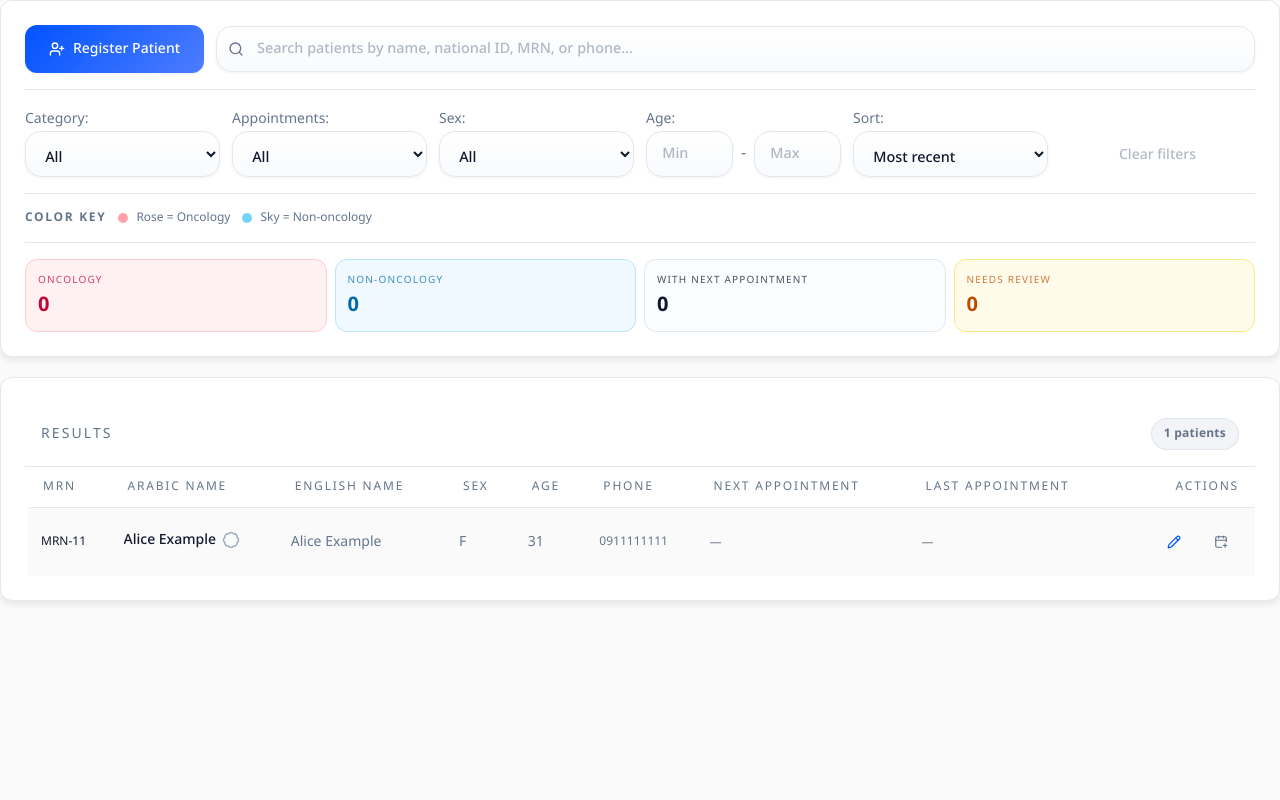
Scenario: PatientsPage interactions › opens and dismisses the patient drawer when clicking a patient row
This screenshot has width=1280, height=800.
Check: the text "Alice Example" is shown, box [124,530,216,550]
Step 1. Click the button "Alice Example" → [641, 542], box [27,508,1255,576]
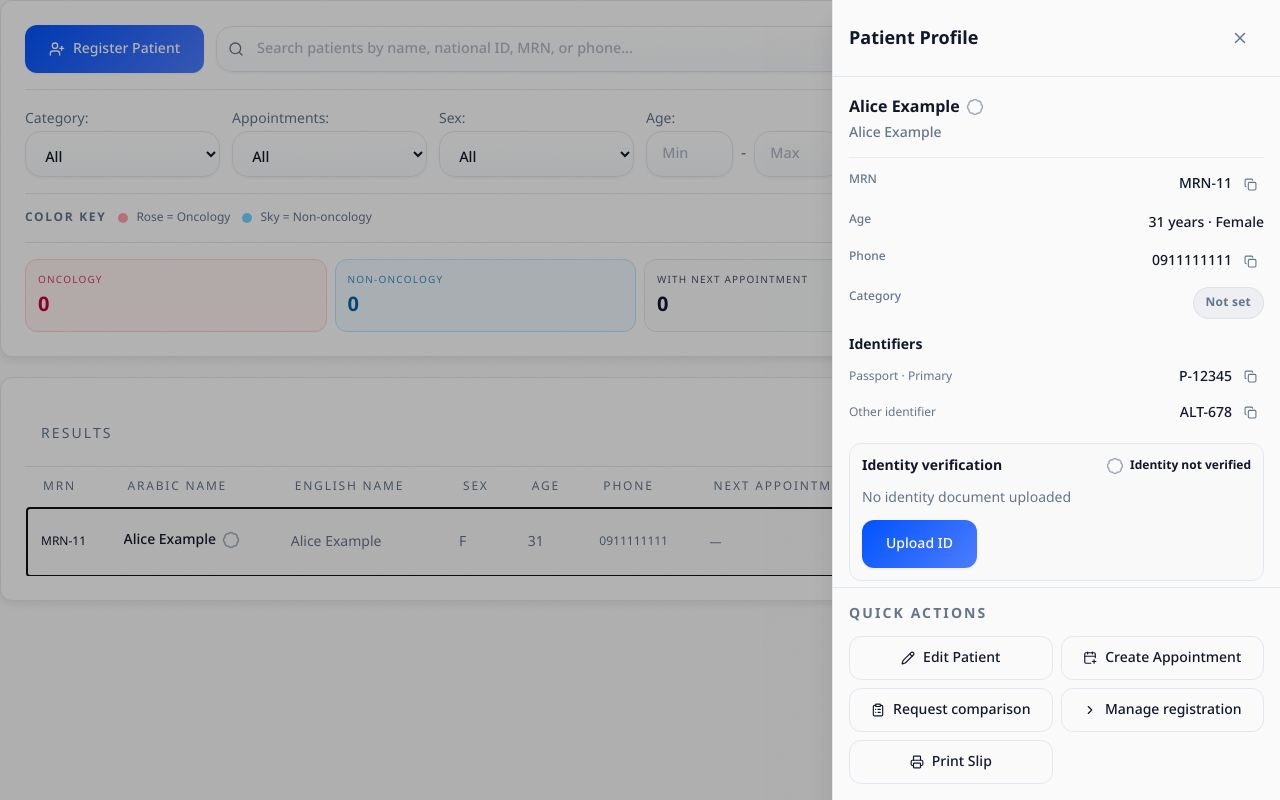
Check: the heading "Patient Profile" is shown, box [849,24,978,52]
Step 2. Click the element with test id "patient-drawer-backdrop" → [640, 400], box [0,0,1279,799]
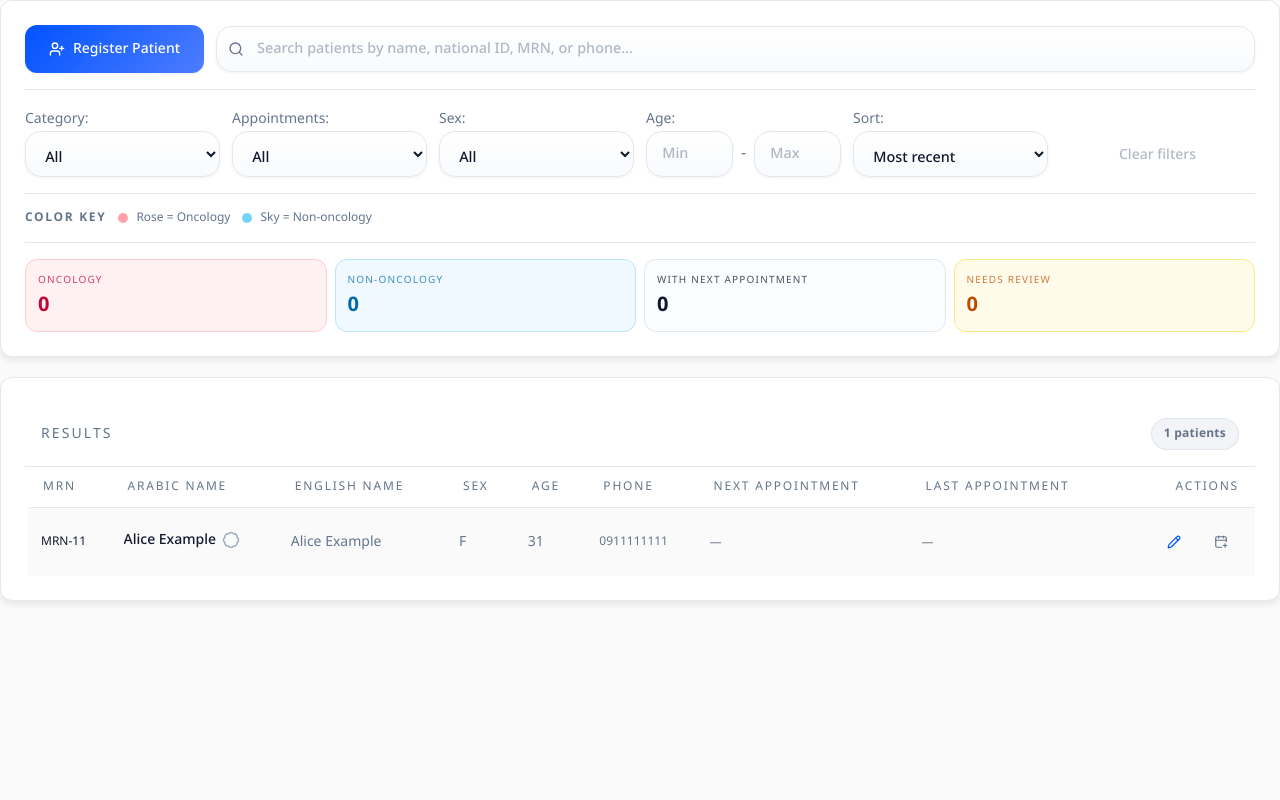
Check: the heading "Patient Profile" is gone
